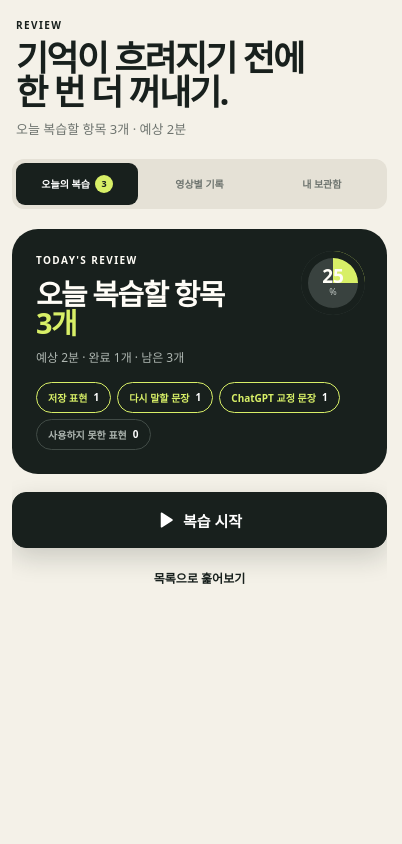
it: Today's review session › grades a card through the forgetting curve and moves on
Click the button "복습 시작". click: (200, 520)
box: [12,492,387,548]
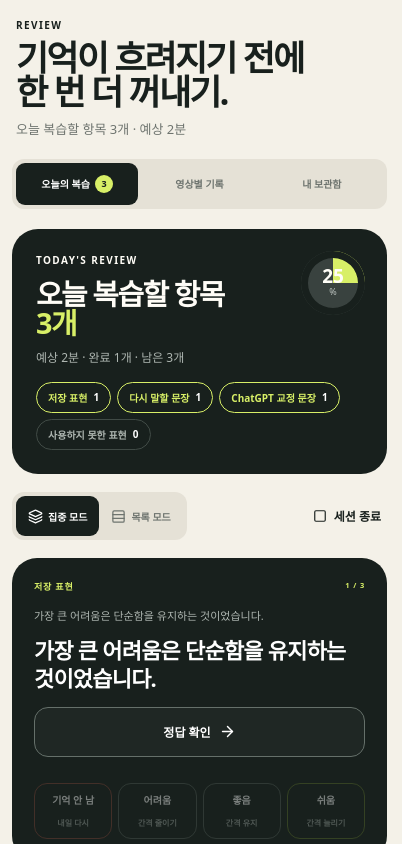
Check: the text "1 / 3" is shown, box [345,580,365,593]
Check: the button "기억 안 남 내일 다시" is disabled, box [34,782,112,838]
Click the button "정답 확인". click: (200, 732)
box: [34,706,365,756]
(page scrolled)
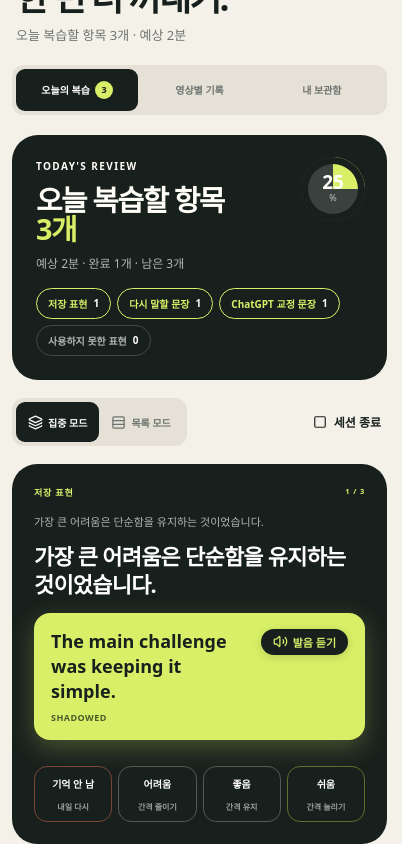
Check: the text "The main challenge was keeping it simple." is shown, box [51,628,251,704]
Click the button "좋음 간격 유지". click: (242, 794)
box: [202,766,281,822]
(page scrolled)
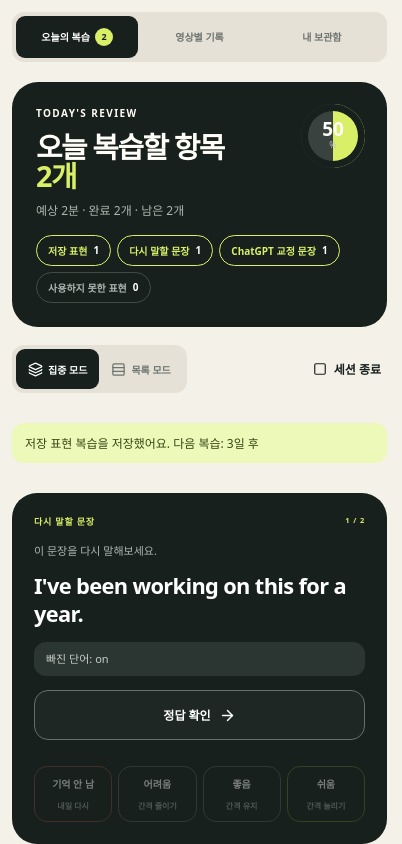
Check: the message shows "저장 표현 복습을 저장했어요.", box [25,435,259,452]
Check: the element with class "review-focus-card" shows "1 / 2", box [12,493,387,843]
